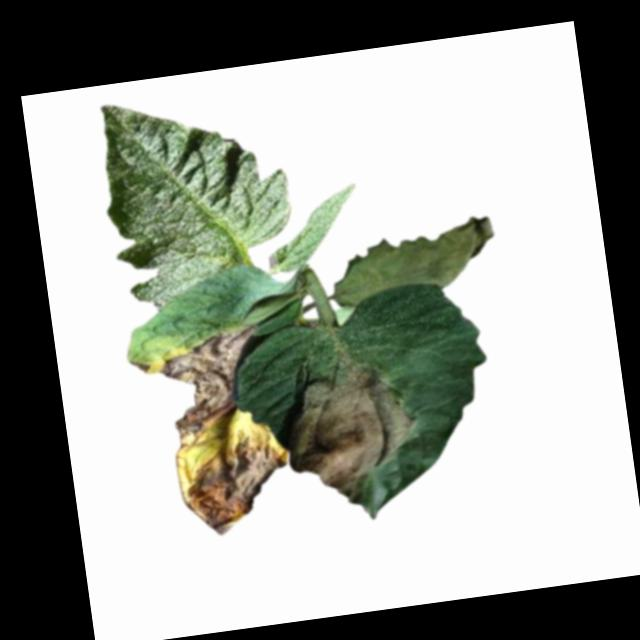Late_blight: (273, 348, 427, 513), (325, 212, 502, 311), (158, 322, 271, 451), (173, 436, 297, 542), (127, 356, 152, 377)
healthy: (90, 82, 301, 316), (261, 180, 366, 276)
